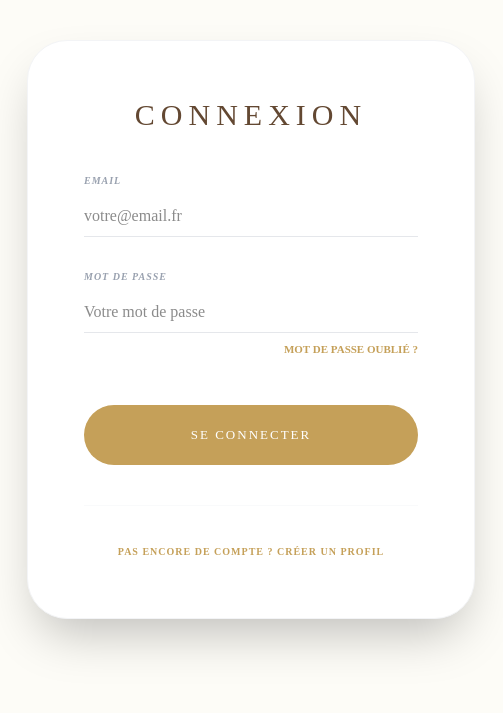
Sécurité du composant Login › le bouton "S'inscrire" devrait être désactivé si la case RGPD n'est pas cochée
Click the button with aria-label "Basculer vers la création de compte": (251, 551) [118, 544, 384, 558]
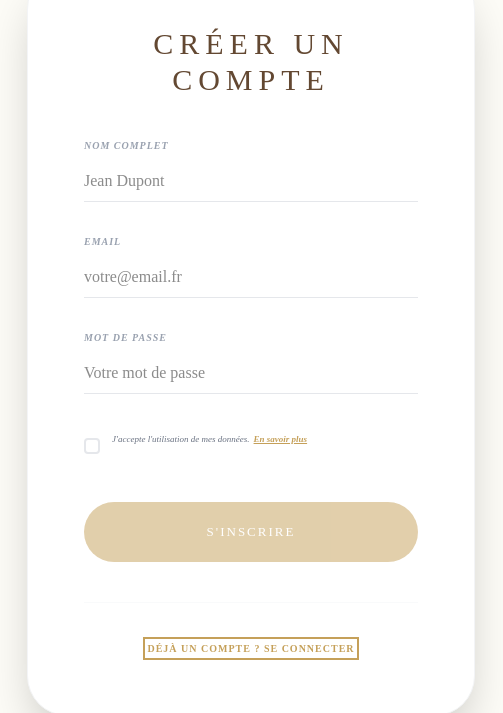
Expected: the button "S'inscrire" is disabled, [84, 502, 418, 562]
Click the checkbox named "Accepter l'utilisation des données personnelles": (92, 446) [84, 438, 100, 454]
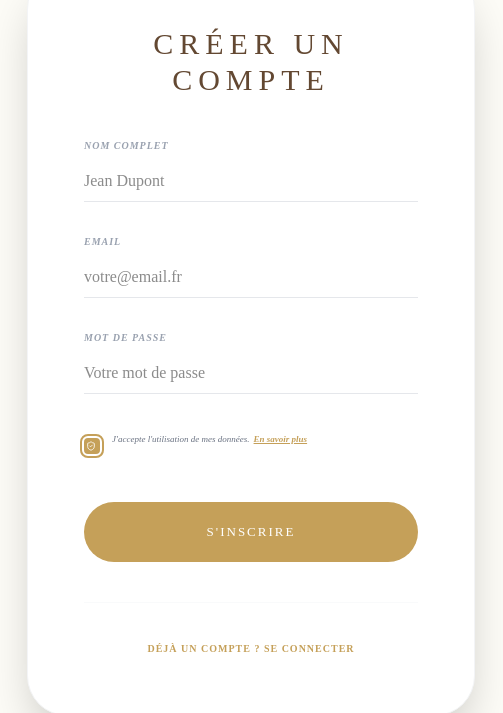
Expected: the button "S'inscrire" is enabled, [84, 502, 418, 562]
Click the checkbox named "Accepter l'utilisation des données personnelles": (92, 446) [84, 438, 100, 454]
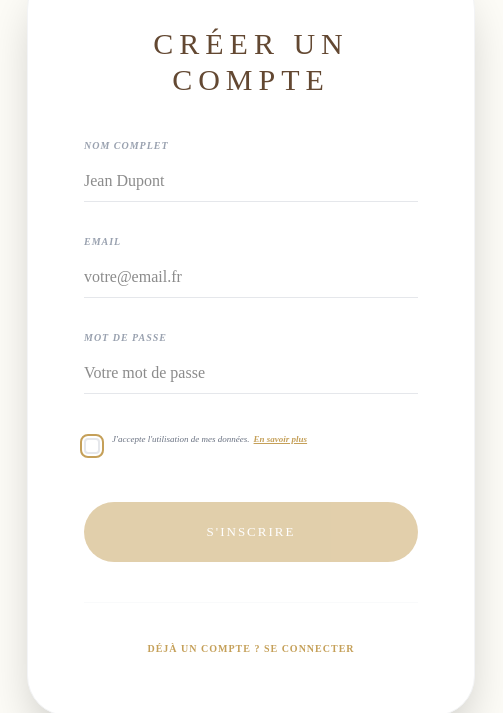
Expected: the button "S'inscrire" is disabled, [84, 502, 418, 562]
